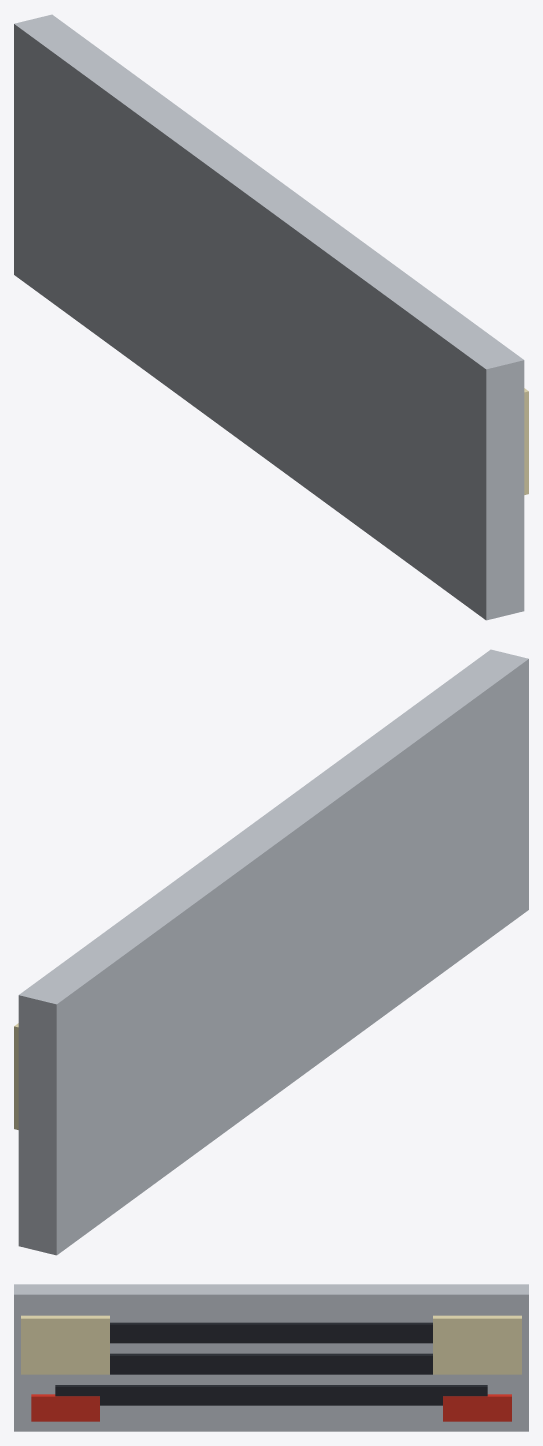
Rendered from grille.obj.
3 renders of one model, top to bottom at view 1: azimuth 30°, elevation 25°; view 2: azimuth 150°, elevation 25°; view 3: azimuth 270°, elevation 25°, orthographic. The views are drawn at different scales.
Visible parts, largest first — view 1: Cube; view 2: Cube; view 3: Cube.
Part boxes in pixels (left/top/right/bottom): Cube: left=14, top=14, right=528, bottom=620; Cube: left=14, top=649, right=528, bottom=1255; Cube: left=14, top=1284, right=528, bottom=1431.
Size of the model in its own units: 0.09 by 0.44 by 1.5.
